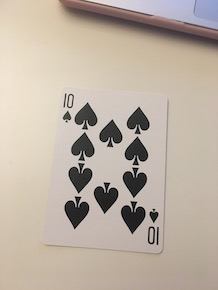TenOfSpades: (41, 85, 171, 257)
